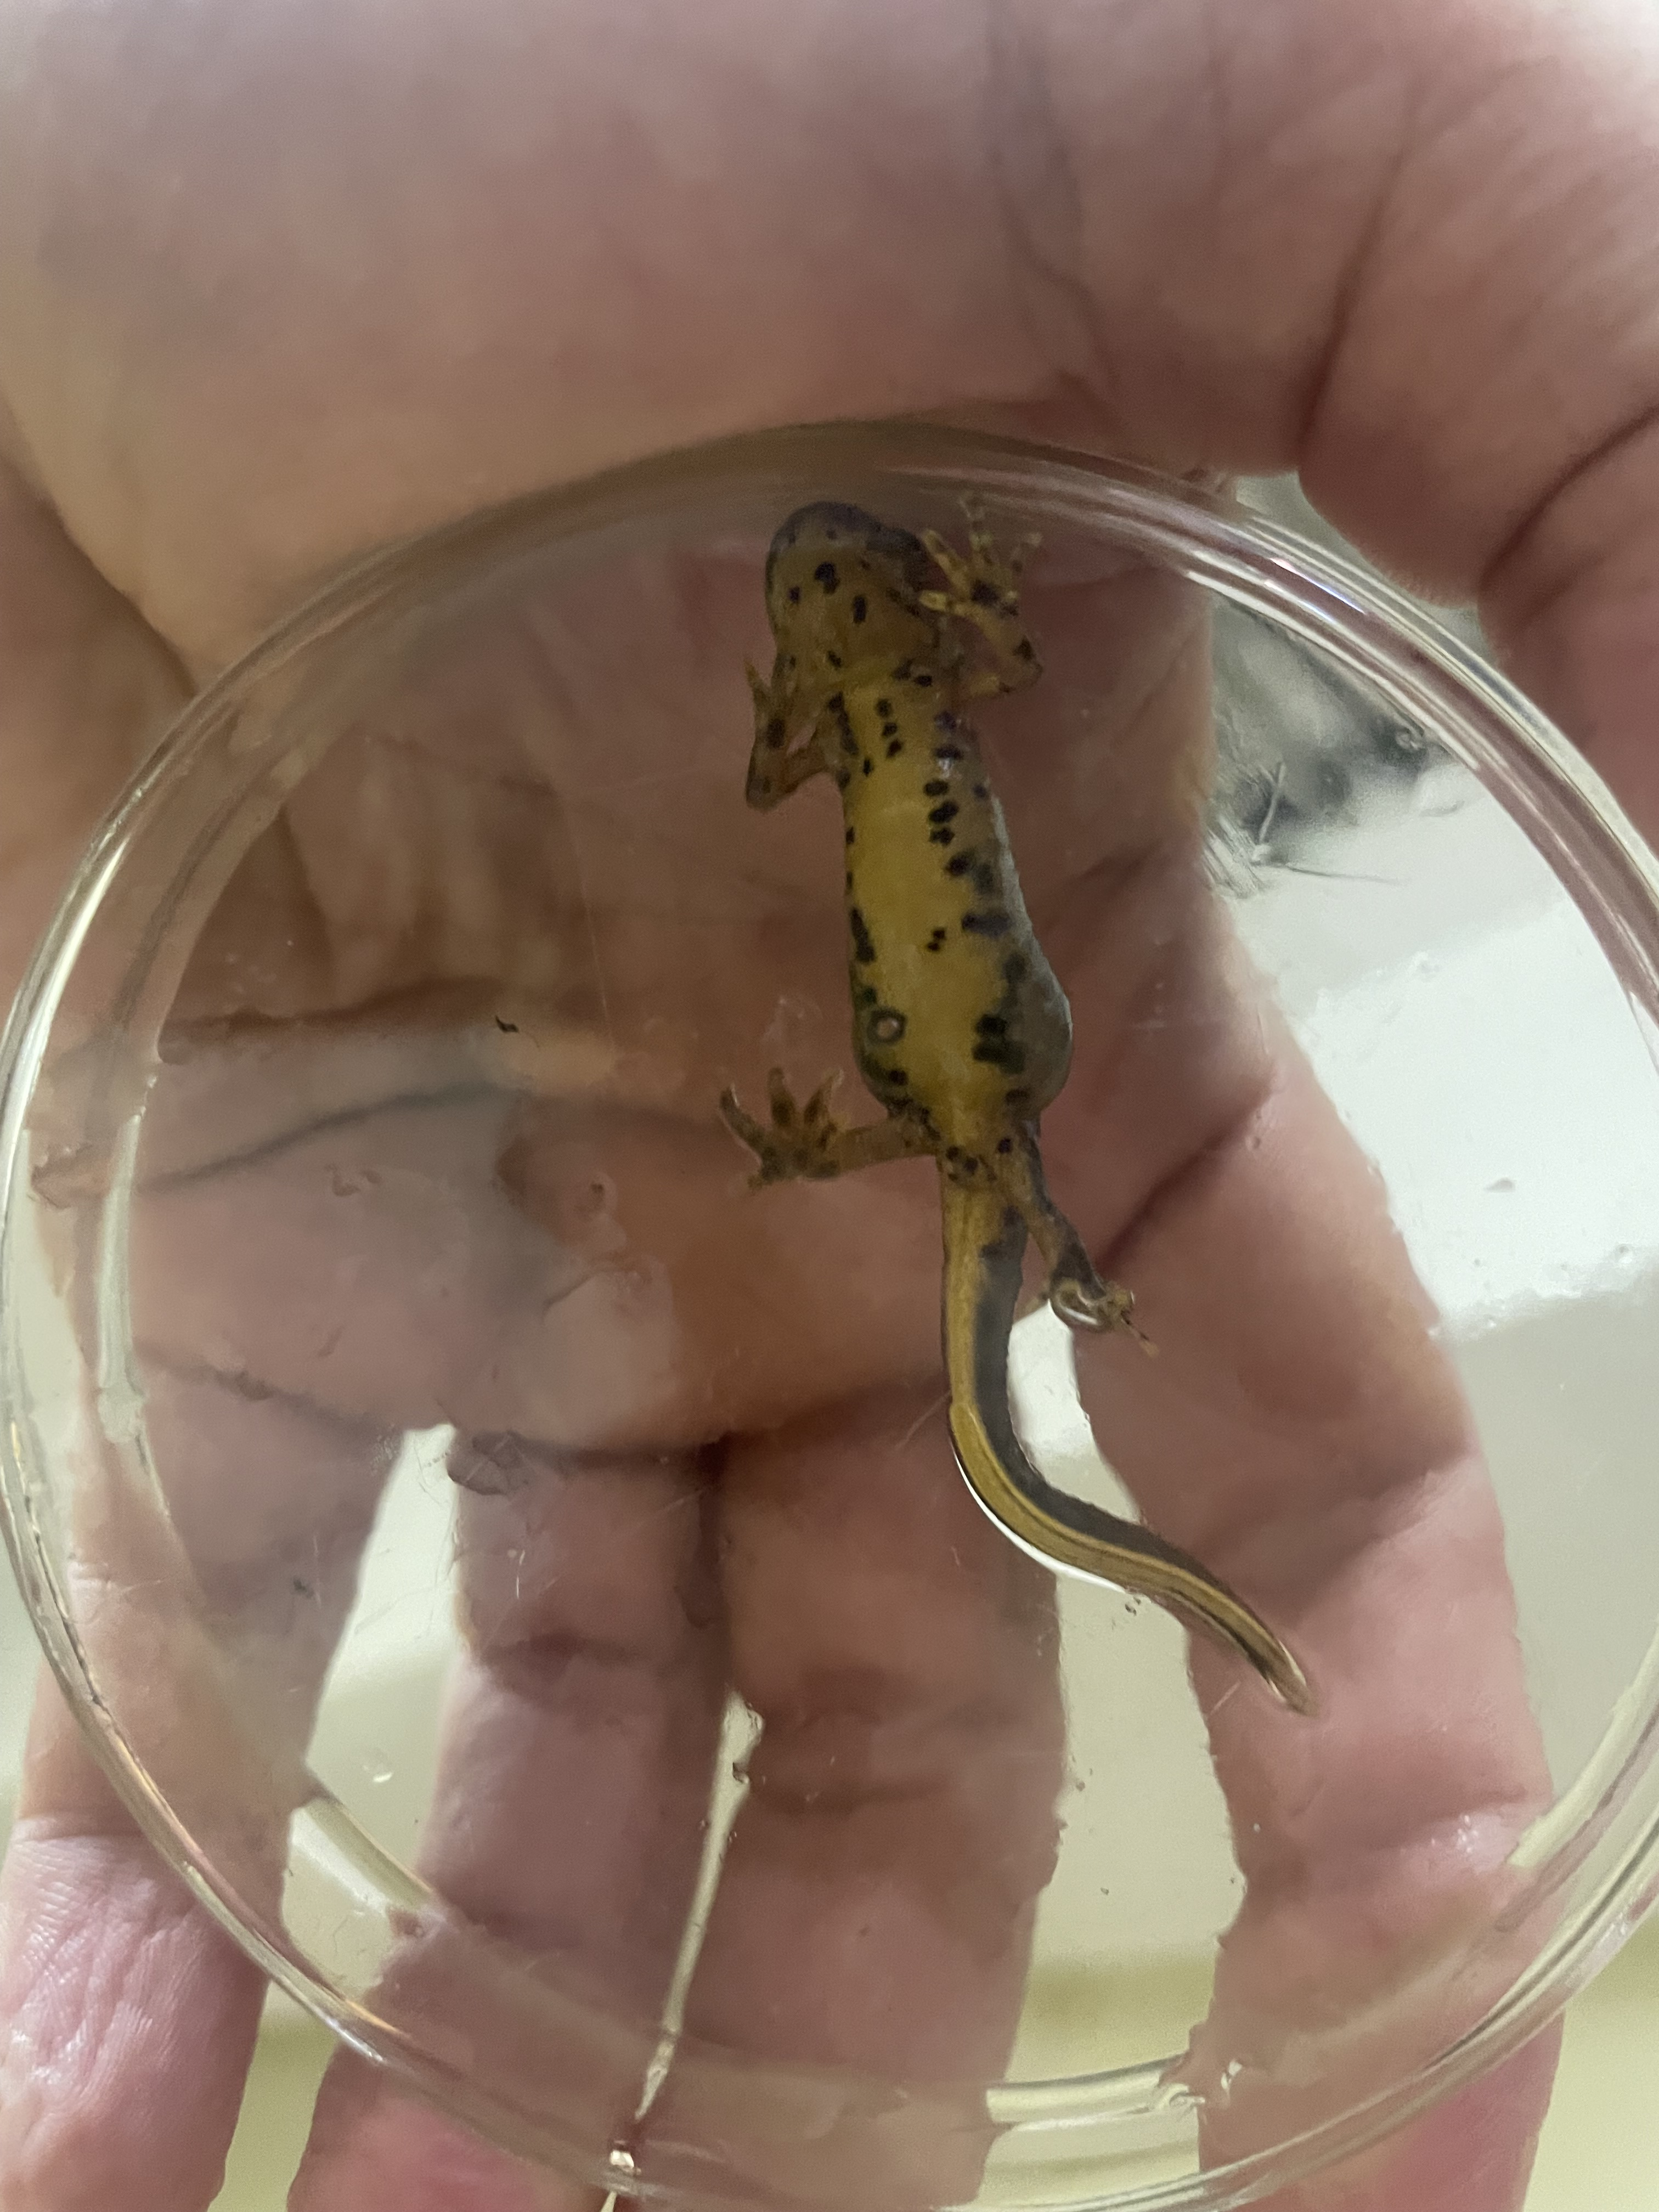Karelin_newt: (830, 705, 1073, 1122)
